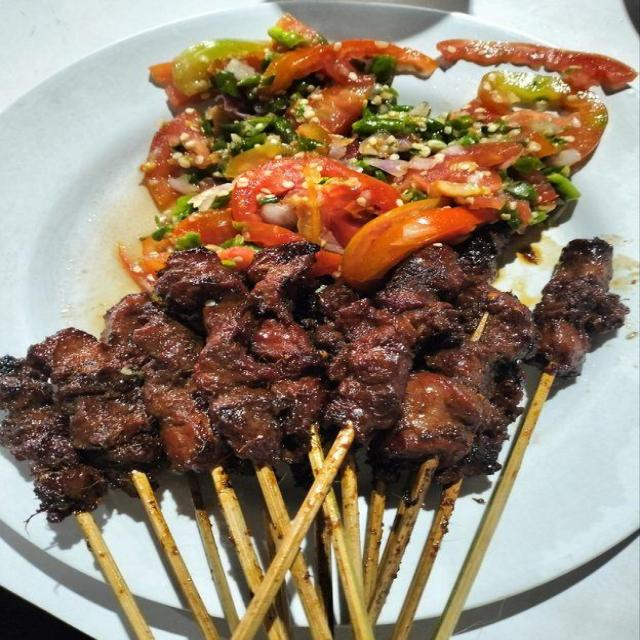Sate: (64, 283, 559, 627)
